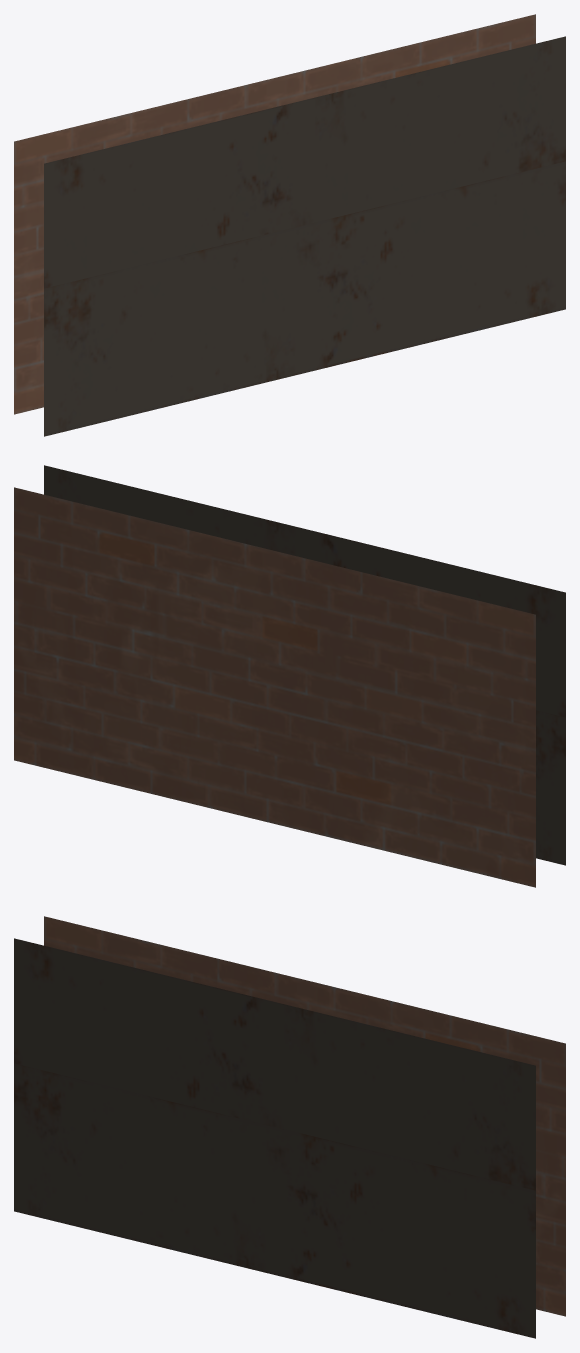
File: metal_plain_1.glb
3 views of the same model, one above another, from view 1: azimuth 30°, elevation 25°; view 2: azimuth 150°, elevation 25°; view 3: azimuth 330°, elevation 25° (orthographic).
Visible parts, largest first — view 1: Metal_Plain_1; view 2: Metal_Plain_1; view 3: Metal_Plain_1.
Part boxes in pixels (box(x1,y1,x2,y2)): Metal_Plain_1: box(14, 14, 565, 436); Metal_Plain_1: box(14, 465, 565, 887); Metal_Plain_1: box(14, 916, 565, 1338).
Bounding box in the file's own units: 2 × 1 × 0.2.
Materials: 2 (2 with a texture image).
